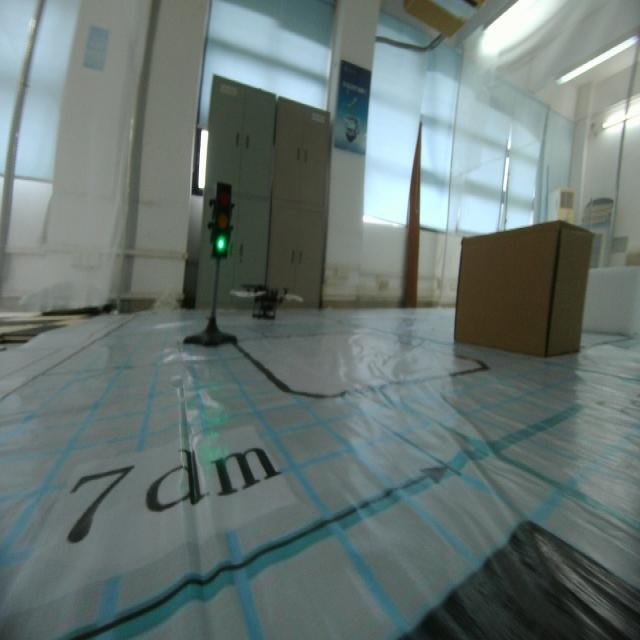green: (209, 179, 233, 257)
